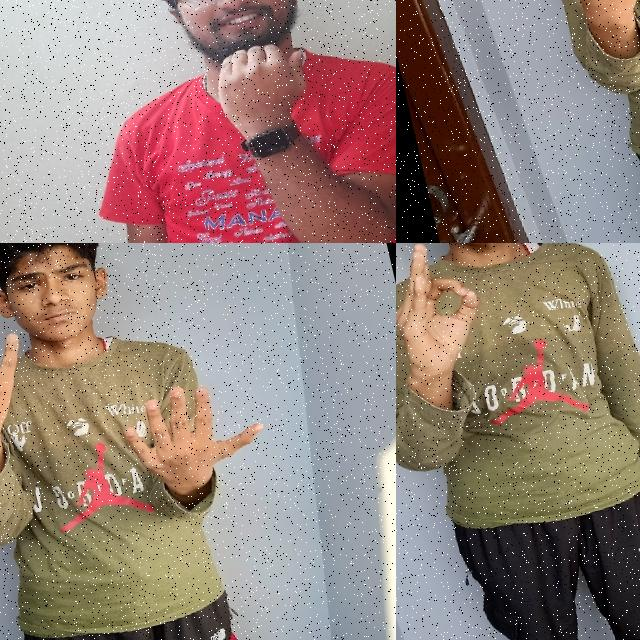Chin Flick: (133, 0, 342, 160)
Moutza: (102, 358, 282, 502), (0, 289, 46, 475)
Okay: (396, 243, 503, 393)
Reversed Victory: (524, 0, 640, 48)
